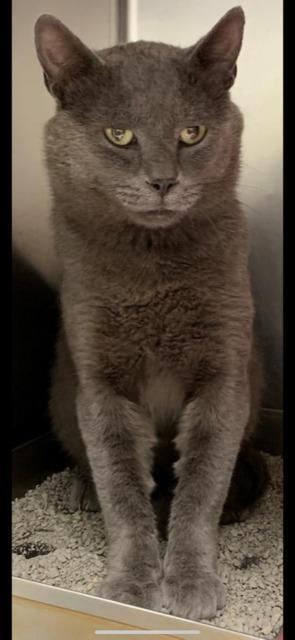rblue: (21, 1, 268, 251)
